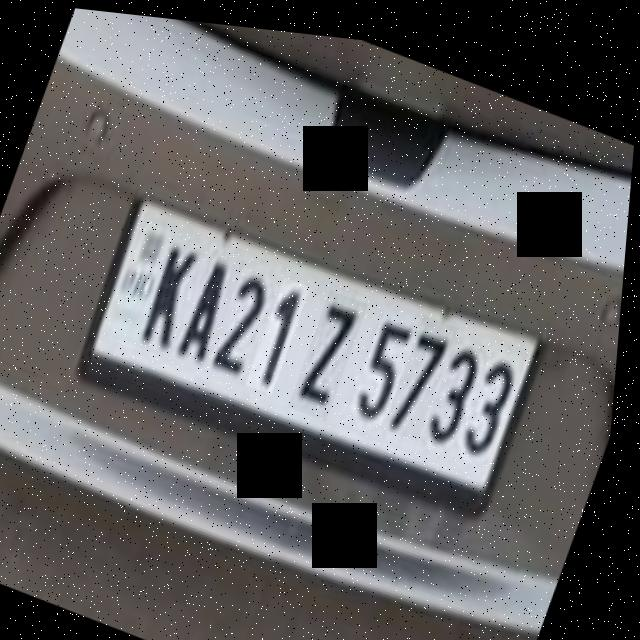1: (250, 267, 315, 390)
3: (455, 333, 534, 471), (425, 325, 491, 443)
5: (354, 294, 428, 419)
7: (388, 302, 463, 433)
A: (178, 240, 249, 368)
K: (139, 224, 214, 355)
Z: (293, 278, 372, 415)
